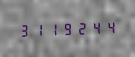four: (101, 18, 114, 35), (87, 19, 100, 35)
nine: (59, 20, 72, 36)
one: (45, 20, 58, 37), (31, 21, 44, 37)
three: (17, 21, 30, 38)
two: (73, 19, 86, 36)
